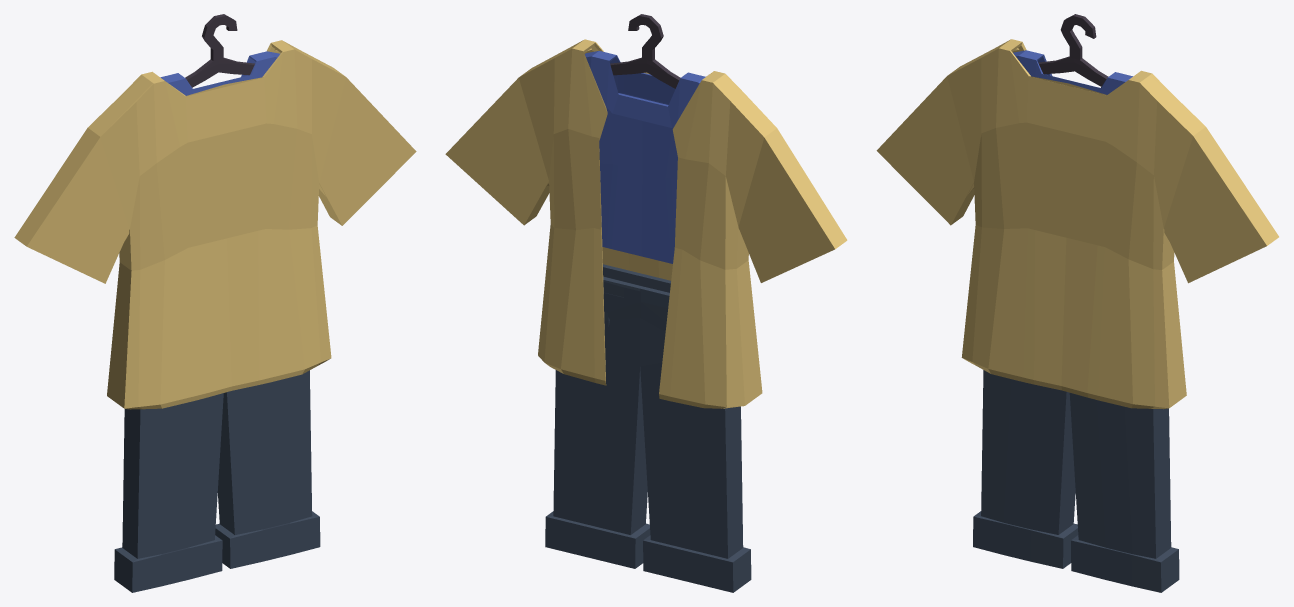
File: clothes_3.fbx
The picture shows the model from 3 angles, left to right: view 1: azimuth 30°, elevation 25°; view 2: azimuth 150°, elevation 25°; view 3: azimuth 330°, elevation 25°; orthographic projection.
Visible parts, largest first — view 1: jacket3.1, pant3, hanger3, shirt3; view 2: jacket3.1, pant3, shirt3, hanger3; view 3: jacket3.1, pant3, hanger3, shirt3.
Boxes of the visible parts, <box> form: jacket3.1: <box>14,40,416,409</box>; pant3: <box>114,370,320,592</box>; hanger3: <box>185,14,254,87</box>; shirt3: <box>160,51,279,95</box>; jacket3.1: <box>445,39,847,408</box>; pant3: <box>545,264,751,592</box>; shirt3: <box>584,51,705,263</box>; hanger3: <box>610,14,680,88</box>; jacket3.1: <box>876,39,1278,409</box>; pant3: <box>973,370,1179,592</box>; hanger3: <box>1038,14,1108,86</box>; shirt3: <box>1013,50,1132,94</box>.
Size of the model in its own units: 90.3 by 12.62 by 121.
